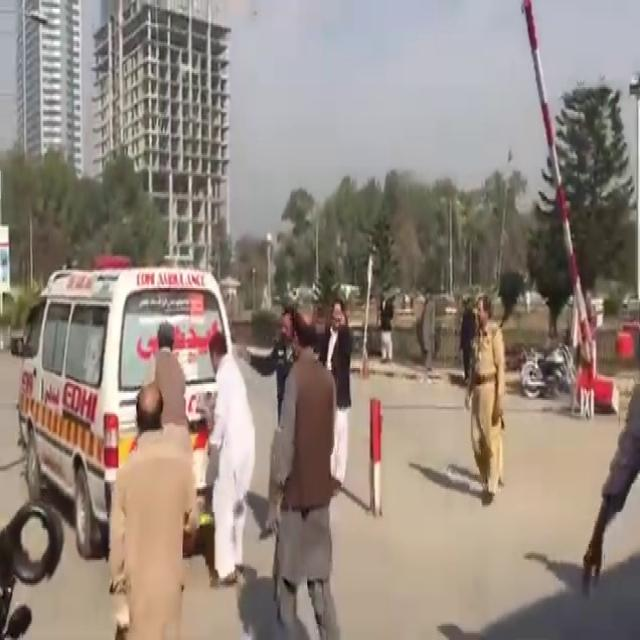ambulance: (14, 263, 236, 517)
